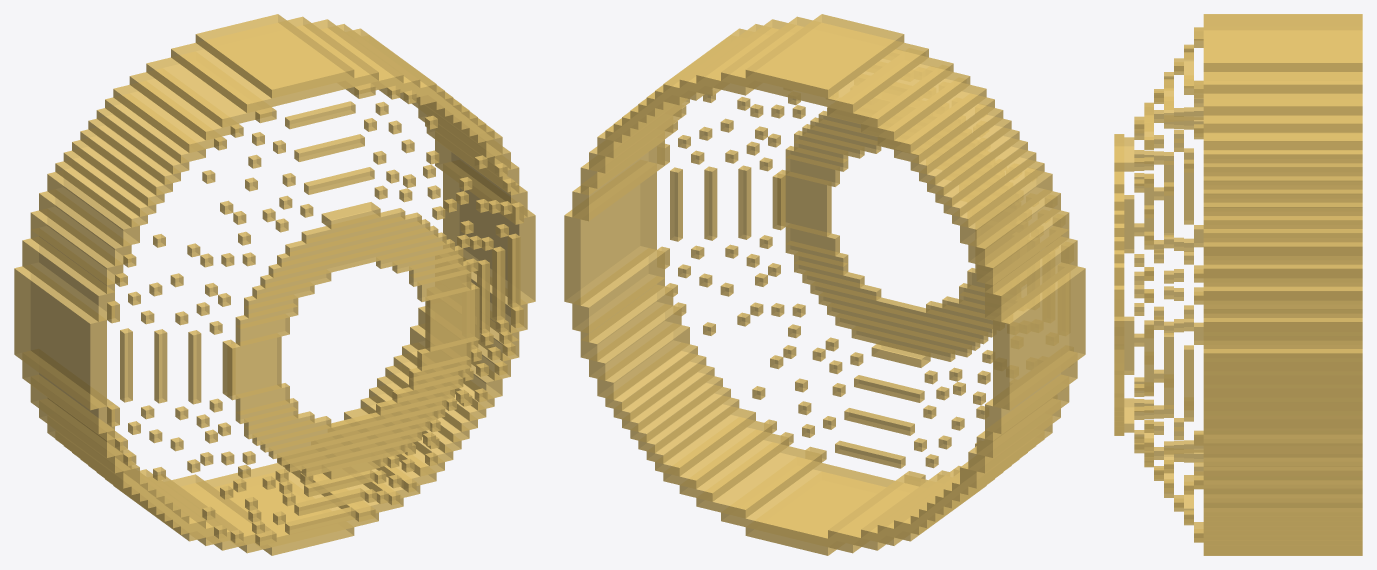
File: roof_dome_conditional.glb
The picture shows the model from 3 angles, left to right: view 1: azimuth 30°, elevation 25°; view 2: azimuth 150°, elevation 25°; view 3: azimuth 270°, elevation 25°; orthographic projection. The views are drawn at different scales.
Visible parts, largest first — view 1: cell_union_22, cell_union_26, cell_union_15, cell_union_27, cell_union_36, cell_union_38, cell_union_46, cell_union_7, cell_union_242, cell_union_215, cell_union_64, cell_union_16 (+77 smaller); view 2: cell_union_22, cell_union_26, cell_union_27, cell_union_36, cell_union_15, cell_union_38, cell_union_45, cell_union_31, cell_union_46, cell_union_64, cell_union_48, cell_union_24 (+64 smaller); view 3: cell_union_36, cell_union_22, cell_union_15, cell_union_20, cell_union_43, cell_union_24, cell_union_9, cell_union_53, cell_union_47, cell_union_8, cell_union_10, cell_union_58 (+37 smaller).
Boxes of the visible parts, x1=… form: cell_union_22: x1=171, y1=16, x2=378, y2=112; cell_union_26: x1=14, y1=265, x2=106, y2=410; cell_union_15: x1=195, y1=14, x2=354, y2=98; cell_union_27: x1=182, y1=463, x2=378, y2=553; cell_union_36: x1=443, y1=162, x2=535, y2=305; cell_union_38: x1=146, y1=52, x2=270, y2=127; cell_union_46: x1=22, y1=237, x2=114, y2=321; cell_union_7: x1=113, y1=81, x2=218, y2=152; cell_union_242: x1=425, y1=284, x2=479, y2=351; cell_union_215: x1=227, y1=336, x2=281, y2=400; cell_union_64: x1=129, y1=68, x2=234, y2=140; cell_union_16: x1=30, y1=209, x2=123, y2=285; cell_union_22: x1=721, y1=16, x2=928, y2=112; cell_union_26: x1=993, y1=266, x2=1085, y2=410; cell_union_27: x1=721, y1=463, x2=917, y2=553; cell_union_36: x1=564, y1=162, x2=656, y2=305; cell_union_15: x1=745, y1=14, x2=904, y2=98; cell_union_38: x1=828, y1=52, x2=953, y2=127; cell_union_45: x1=745, y1=472, x2=885, y2=555; cell_union_31: x1=696, y1=446, x2=821, y2=518; cell_union_46: x1=985, y1=237, x2=1077, y2=321; cell_union_64: x1=861, y1=68, x2=970, y2=140; cell_union_48: x1=679, y1=430, x2=788, y2=501; cell_union_24: x1=572, y1=250, x2=664, y2=333; cell_union_36: x1=1203, y1=345, x2=1362, y2=443; cell_union_22: x1=1203, y1=17, x2=1362, y2=93; cell_union_15: x1=1203, y1=21, x2=1362, y2=71; cell_union_20: x1=1203, y1=314, x2=1362, y2=348; cell_union_43: x1=1203, y1=260, x2=1362, y2=286; cell_union_24: x1=1203, y1=435, x2=1362, y2=465; cell_union_9: x1=1203, y1=107, x2=1362, y2=132; cell_union_53: x1=1203, y1=124, x2=1362, y2=149; cell_union_47: x1=1203, y1=238, x2=1362, y2=264; cell_union_8: x1=1203, y1=81, x2=1362, y2=115; cell_union_10: x1=1203, y1=283, x2=1362, y2=308; cell_union_58: x1=1203, y1=467, x2=1362, y2=488.
Bounding box in the file's own units: 540 × 540 × 250.
